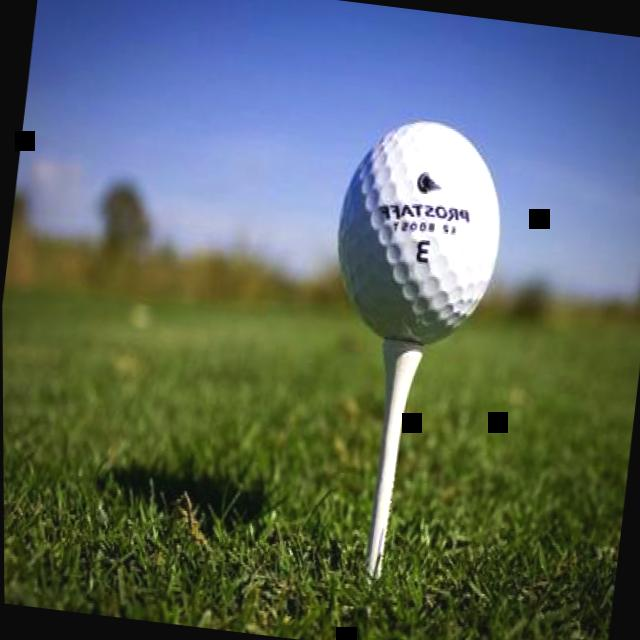golf ball: (291, 79, 540, 382)
